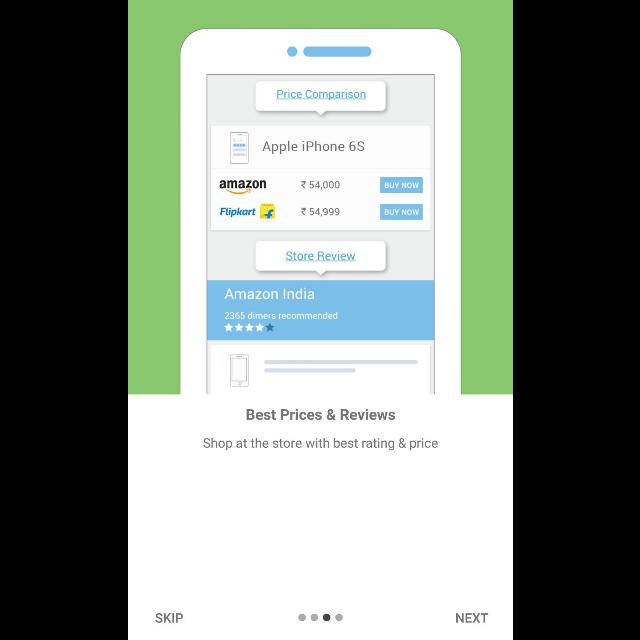image: (179, 28, 461, 394)
pageindicator: (298, 613, 342, 621)
text: (203, 438, 437, 450), (246, 409, 394, 421), (155, 613, 183, 623), (455, 614, 487, 622)
